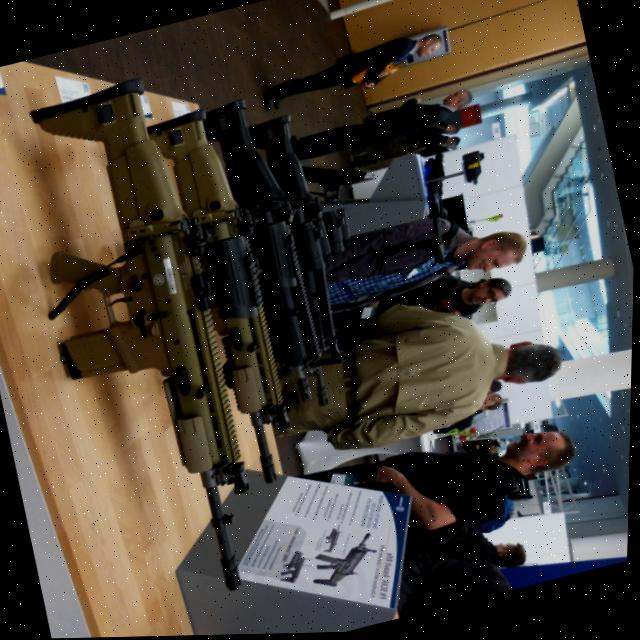firearm: (0, 65, 292, 622), (138, 98, 318, 497), (194, 88, 343, 415), (243, 104, 392, 412), (306, 532, 387, 593)
